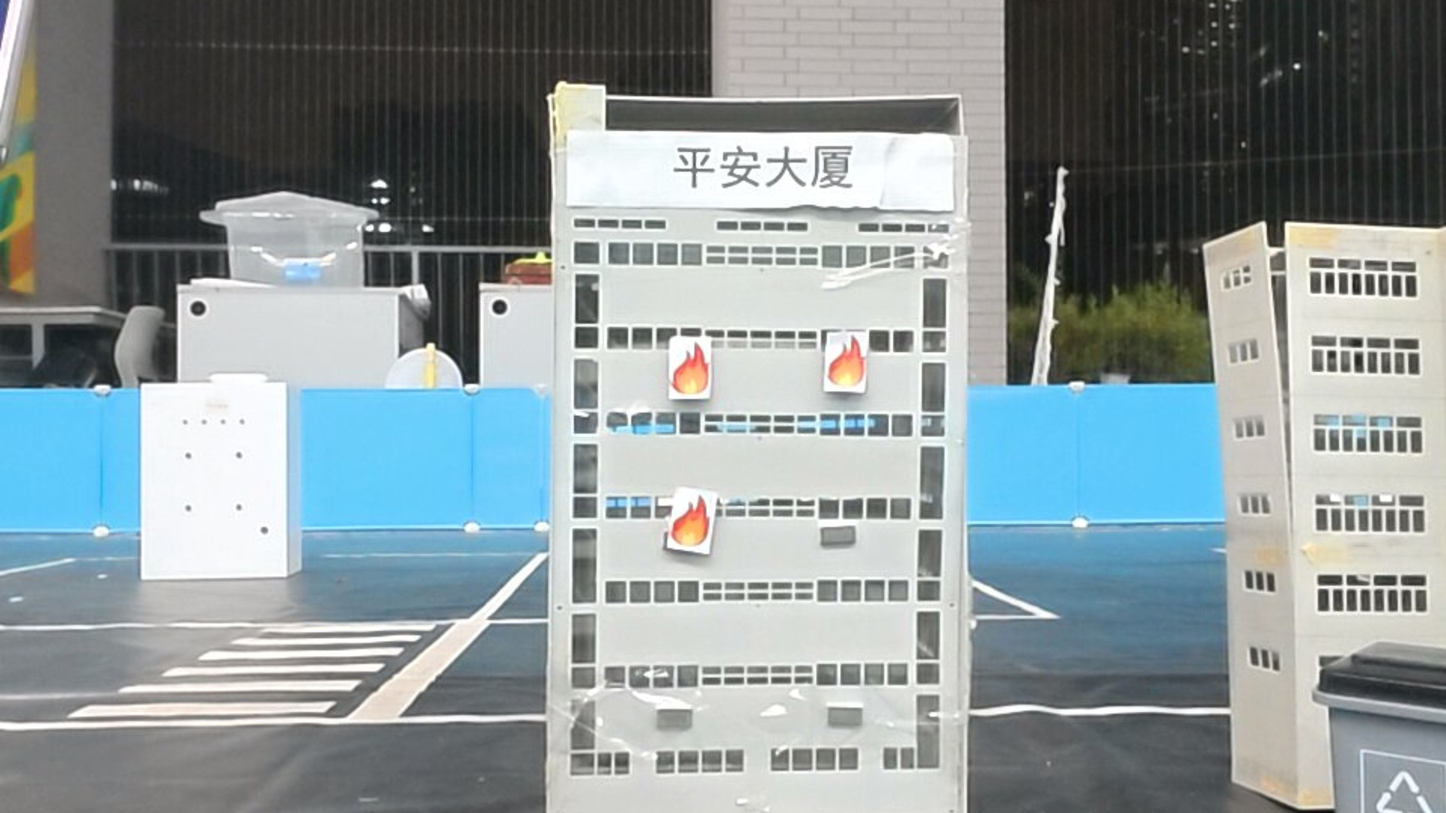fire: (666, 489, 718, 554), (667, 336, 716, 400), (825, 332, 871, 393)
